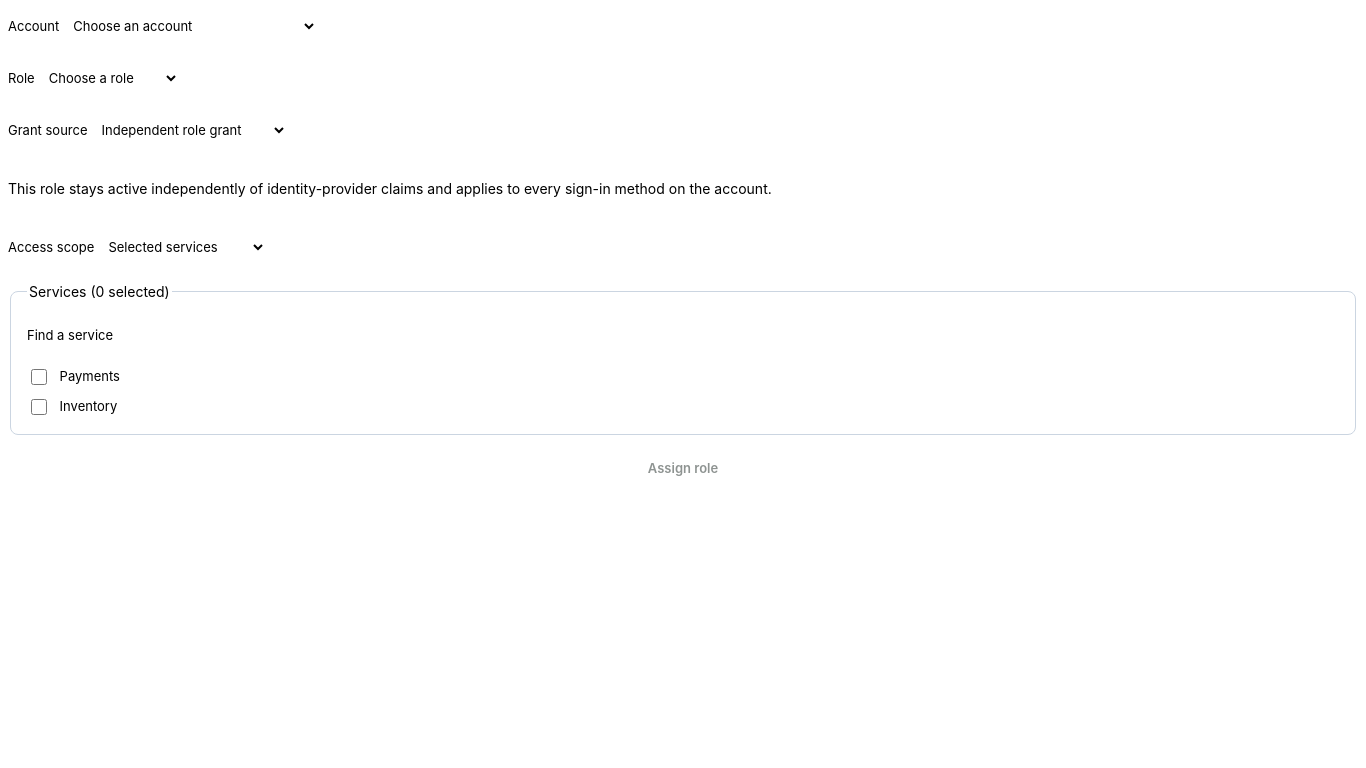
Test: requires deliberate account, role and scope; submits only the chosen scope
Later steps or results of the test are not shown.
expect the button "Assign role" is disabled: met, box x1=8 y1=451 x2=1358 y2=487
Select "password-user (password-user)" in the dropdown labelled "Account". click: (188, 26)
box: x1=59 y1=8 x2=317 y2=44
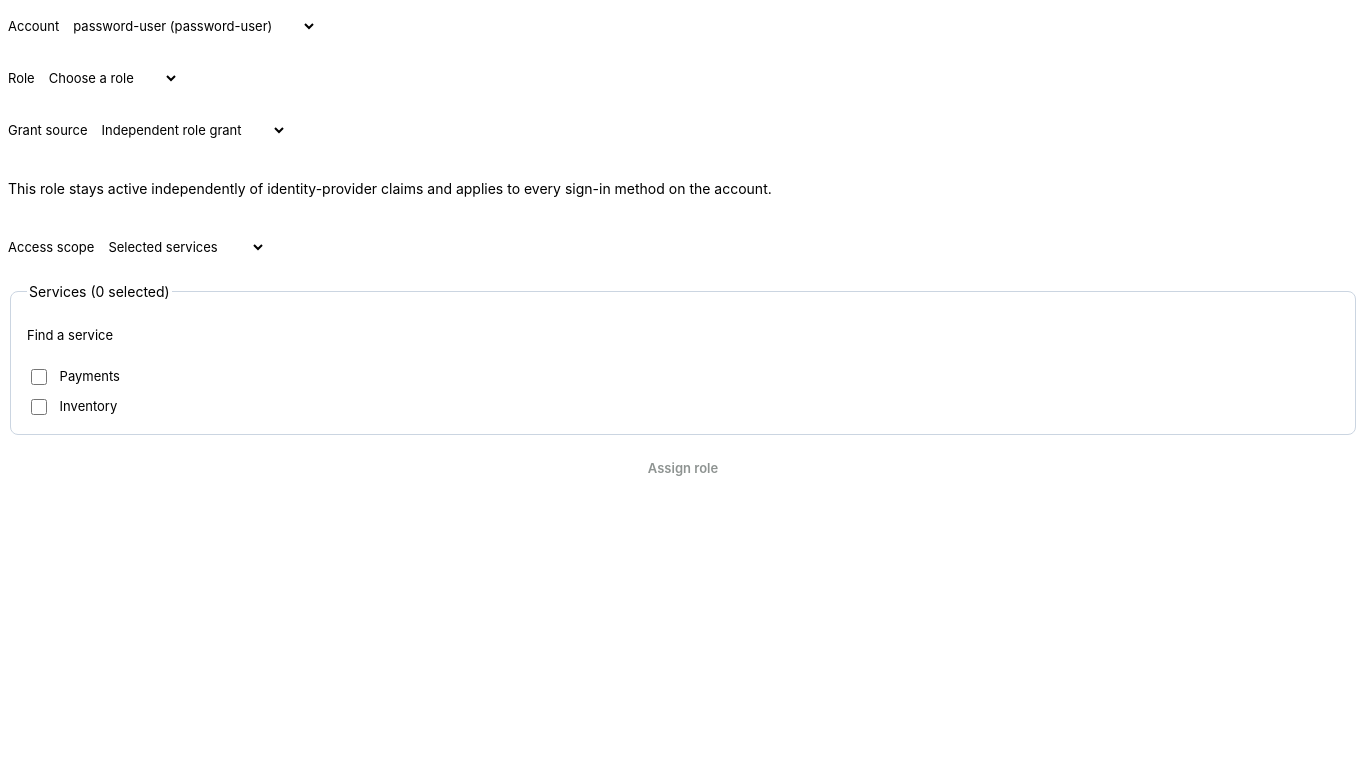
Select "Assessor" in the dropdown labelled "Role". click: (107, 78)
box: x1=35 y1=60 x2=179 y2=96
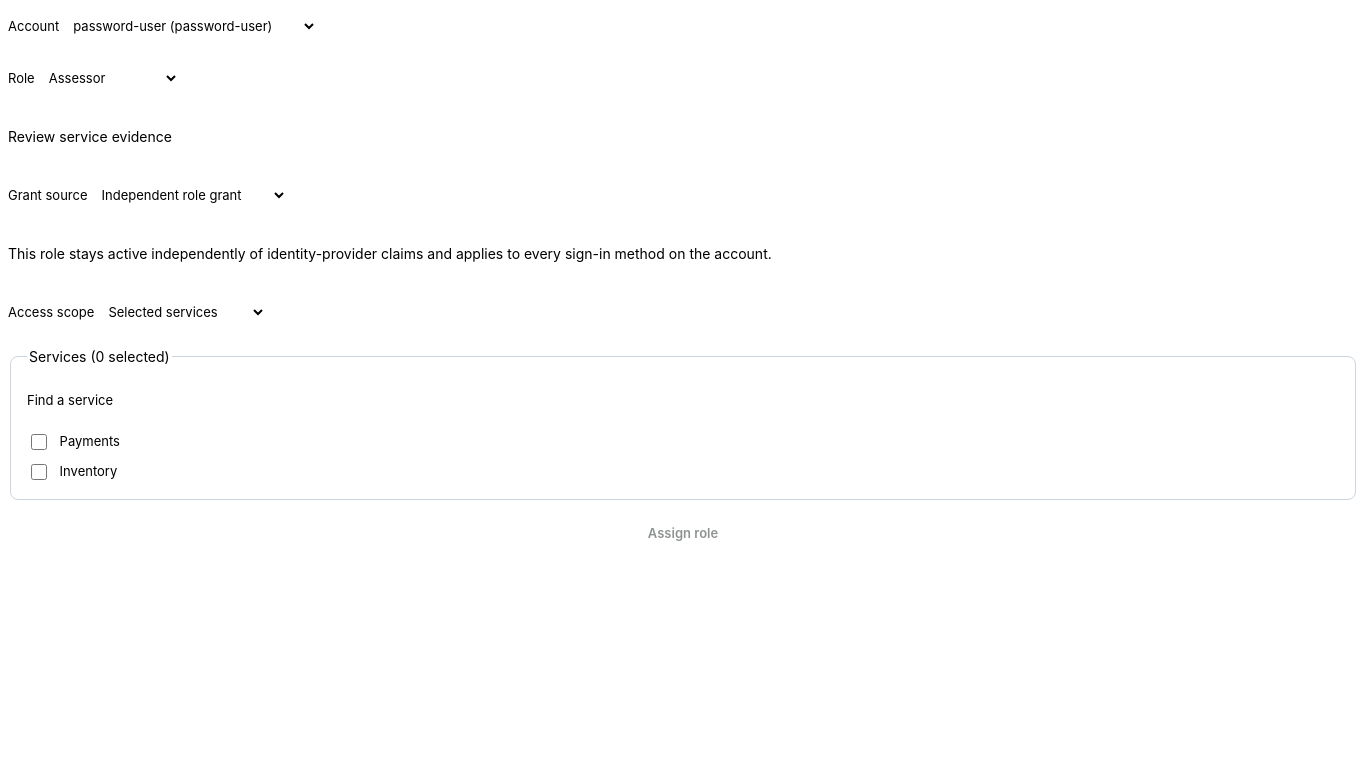
expect the dropdown labelled "Grant source" shows "Independent role grant": met, box x1=88 y1=177 x2=286 y2=213
Click the checkbox labelled "Payments". click: (39, 442)
box: x1=31 y1=434 x2=47 y2=450
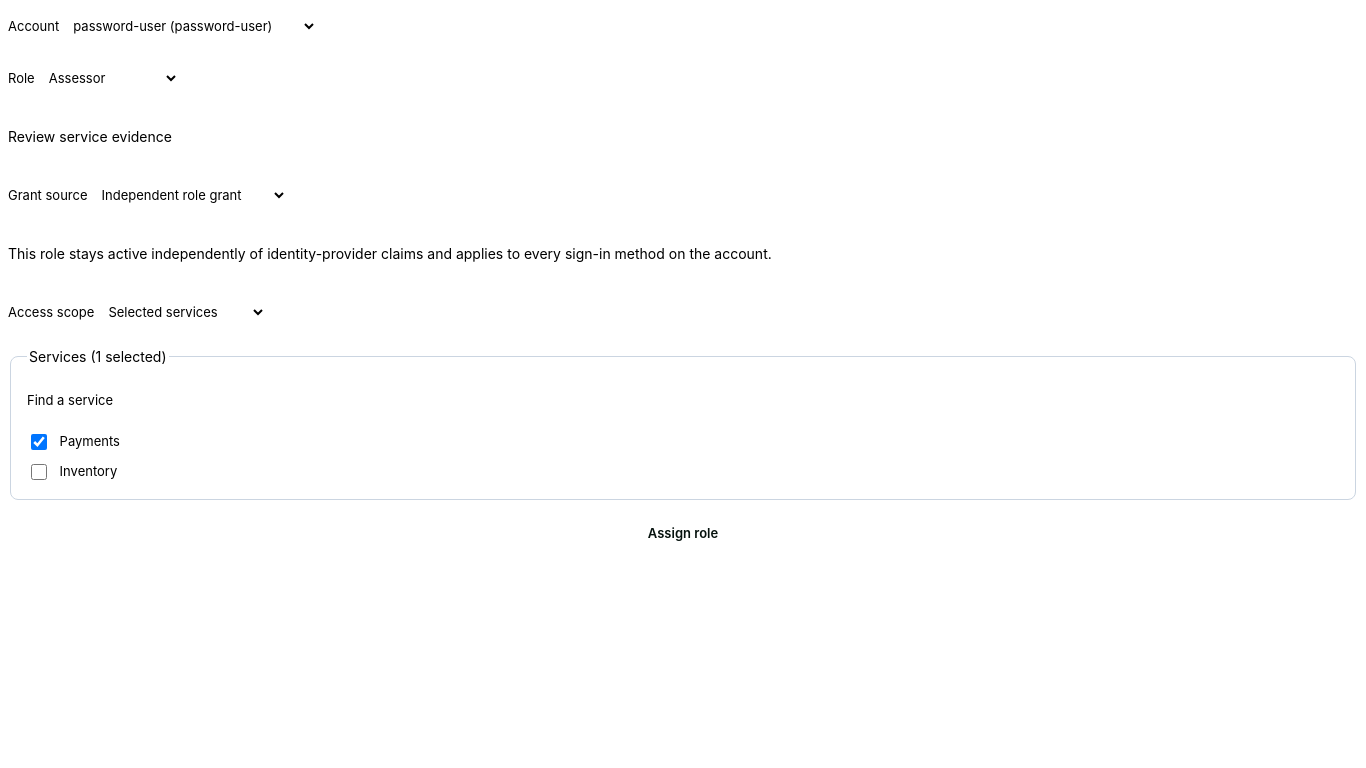
expect the button "Assign role" is enabled: met, box x1=8 y1=516 x2=1358 y2=552
